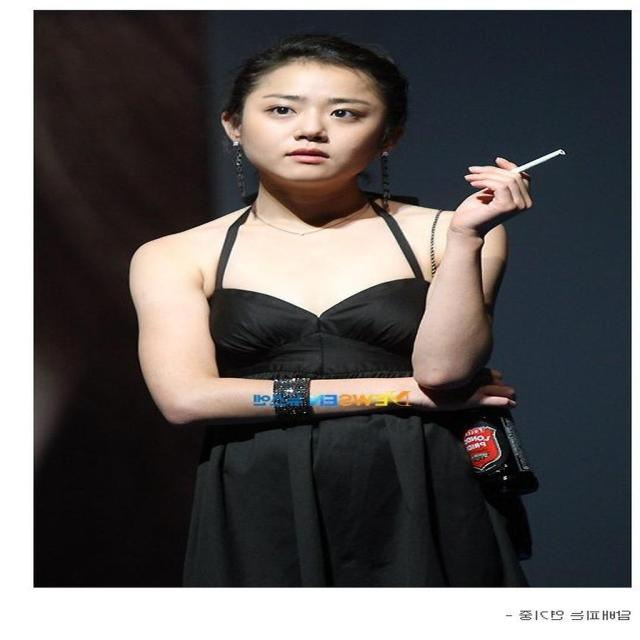smoking: (213, 32, 568, 242)
